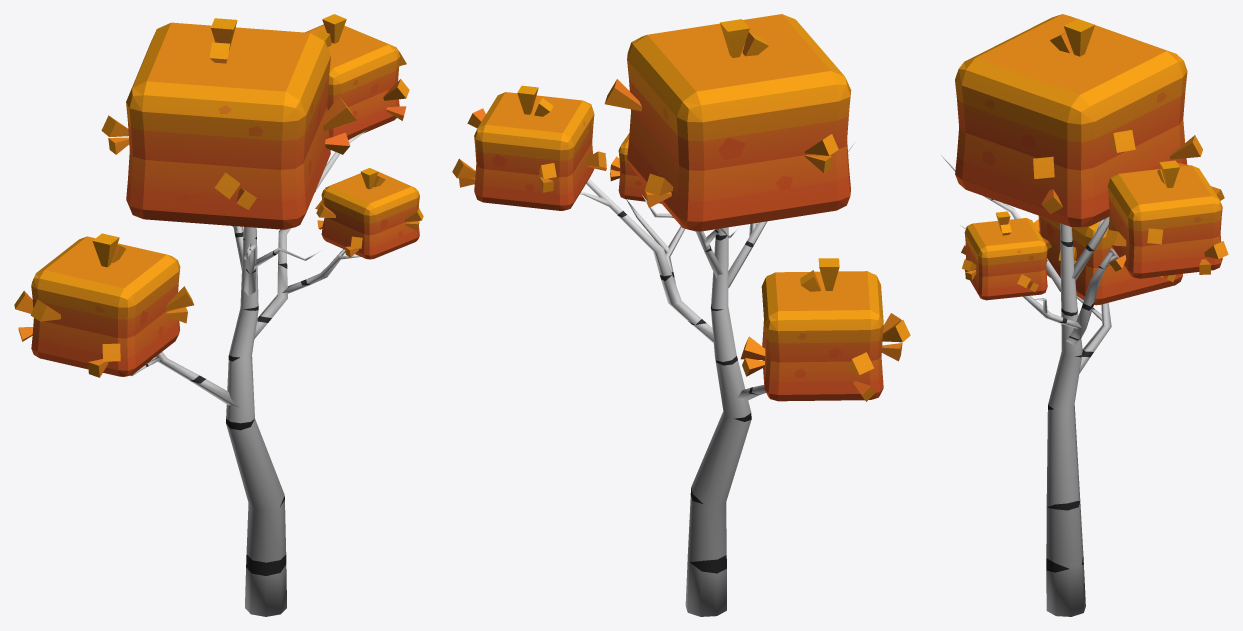
Rendered from birch2.glb.
The picture shows the model from 3 angles, left to right: view 1: azimuth 30°, elevation 25°; view 2: azimuth 150°, elevation 25°; view 3: azimuth 270°, elevation 25°; orthographic projection. The views are drawn at different scales.
Visible parts, largest first — view 1: birch2; view 2: birch2; view 3: birch2.
Part boxes in pixels (x1=…): birch2: x1=14, y1=14, x2=423, y2=616; birch2: x1=452, y1=14, x2=910, y2=616; birch2: x1=941, y1=14, x2=1228, y2=616.
Size of the model in its own units: 4.98 by 6.98 by 3.23.
Materials: 1 (1 with a texture image).
